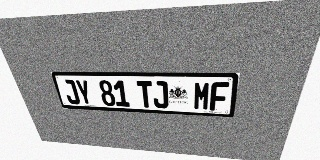1: (112, 80, 130, 107)
8: (98, 80, 116, 106)
F: (209, 82, 229, 111)
J: (61, 79, 81, 104), (152, 81, 168, 108)
M: (193, 81, 211, 110)
T: (136, 81, 154, 108)
Y: (74, 80, 93, 105)
